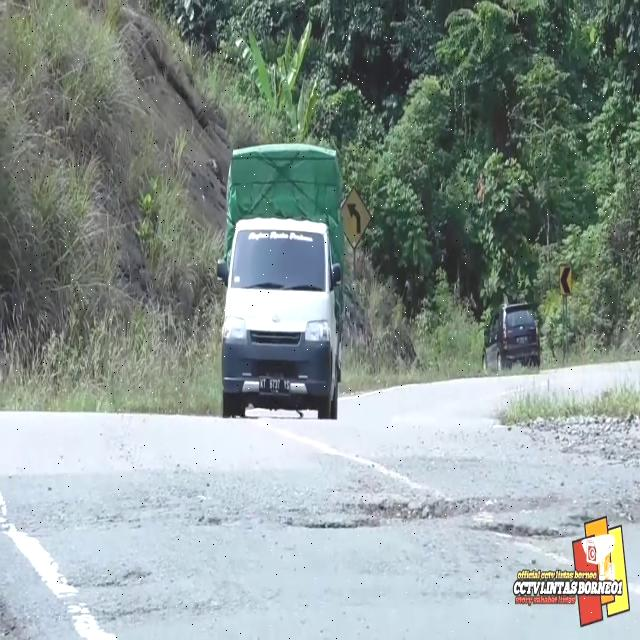Golongan IVB: (215, 218, 345, 421)
